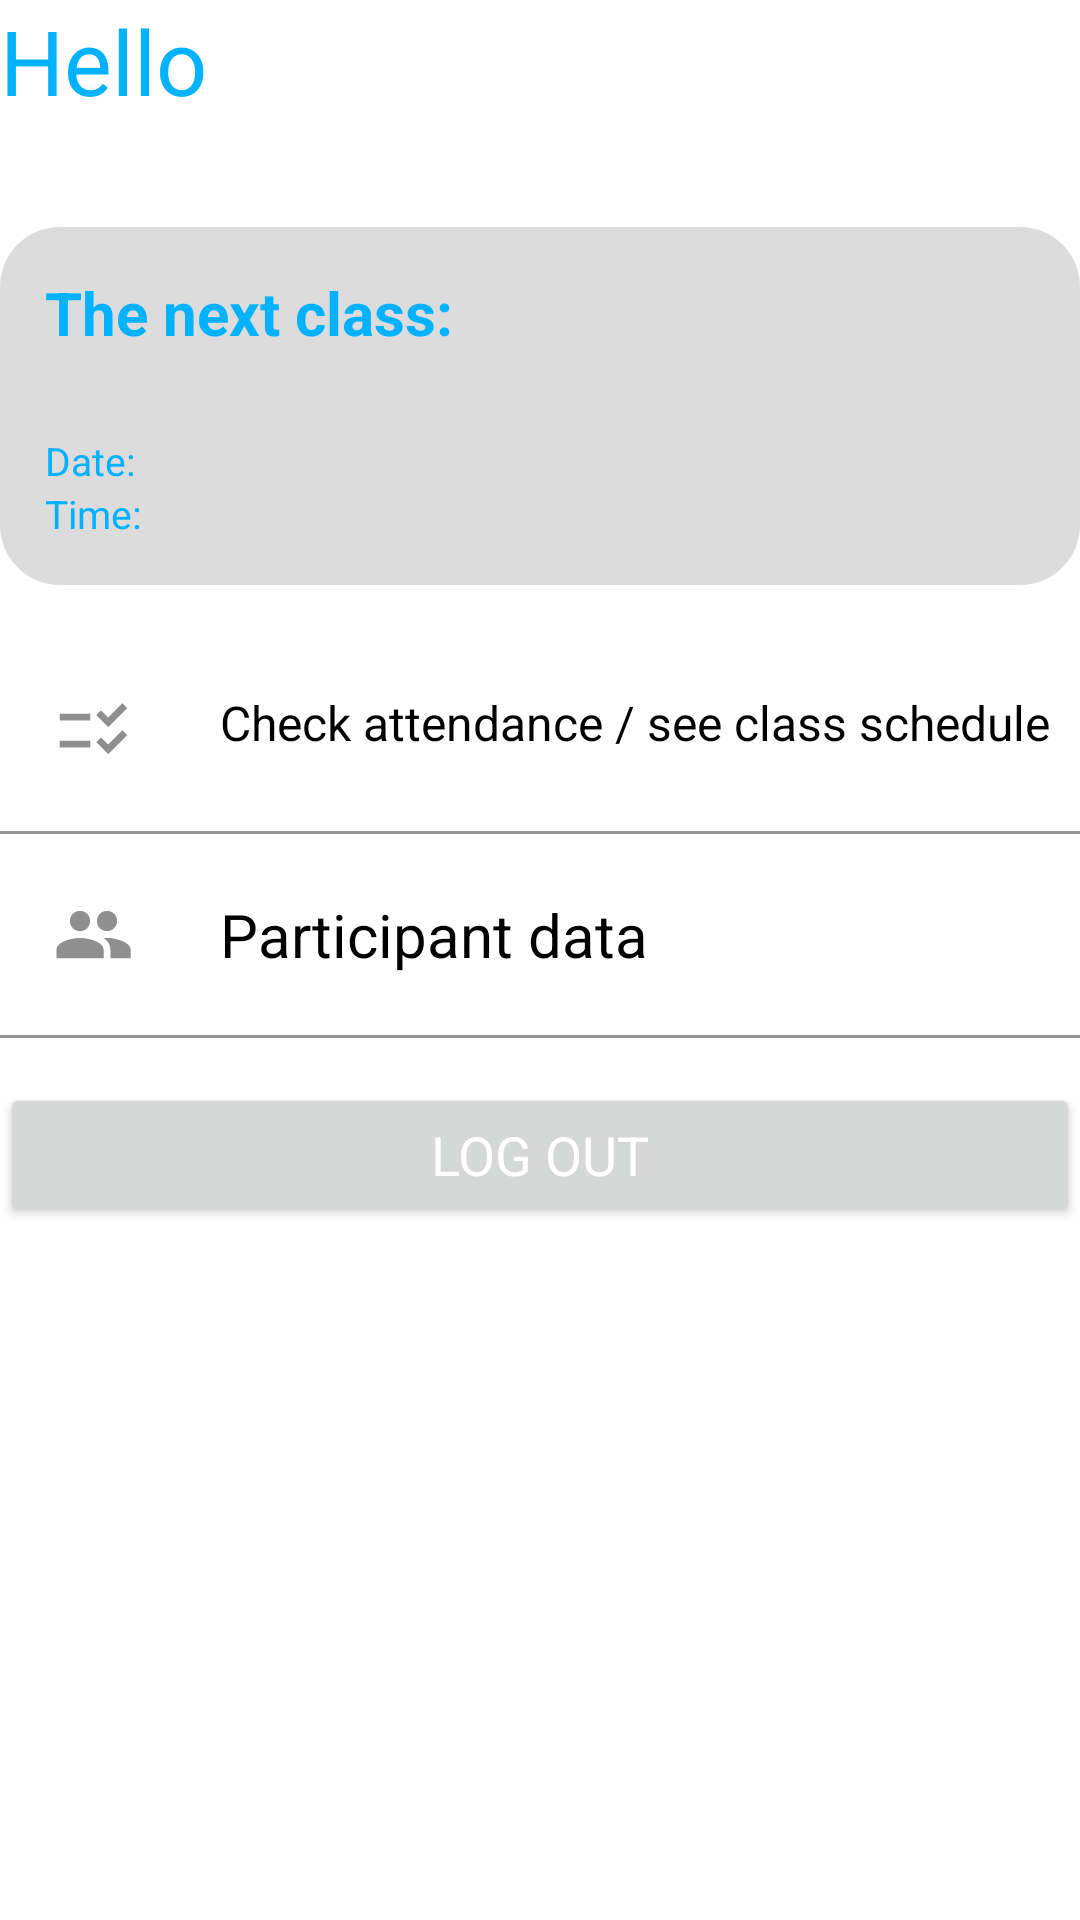

Named icons in this screenshot (1080*1920) and their centers, (x,y):
people: (93,935)
